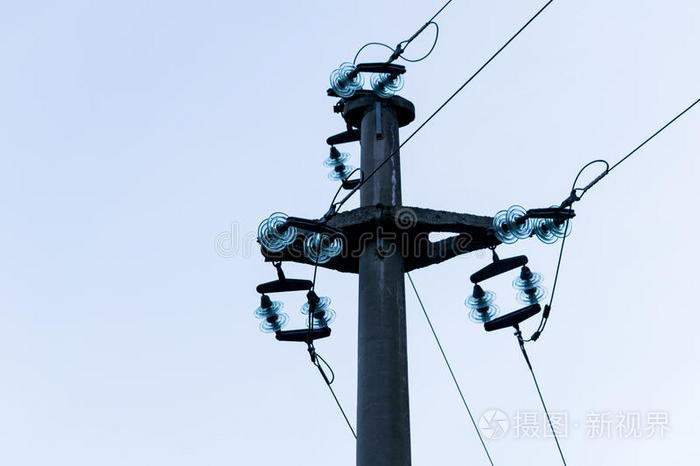insulator: (257, 209, 294, 254), (532, 205, 573, 244), (299, 228, 345, 262), (495, 204, 533, 239), (328, 57, 361, 97), (299, 295, 336, 327), (251, 297, 283, 333), (513, 271, 546, 305), (467, 287, 498, 322), (324, 148, 354, 184), (367, 66, 404, 95)
